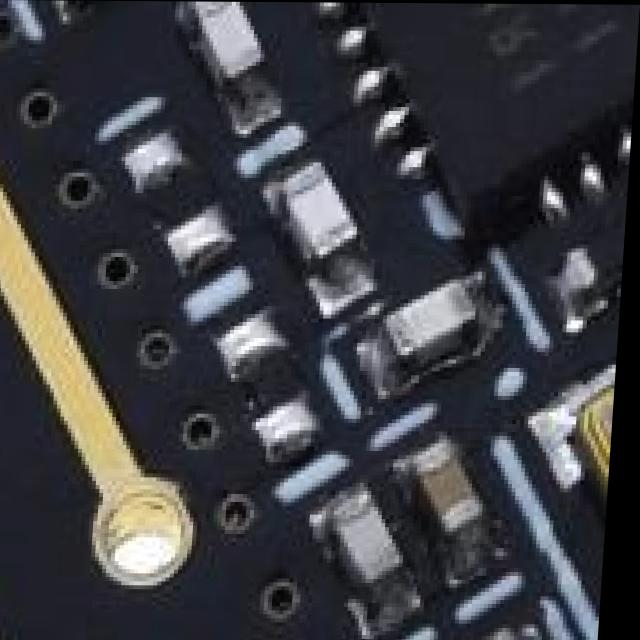IC: (288, 2, 640, 228)
capacitor: (379, 282, 497, 373), (319, 490, 422, 593), (265, 162, 360, 258), (175, 1, 264, 94), (414, 443, 489, 535), (27, 0, 164, 29), (434, 631, 547, 640)
clock: (576, 272, 626, 624)
resistor: (225, 333, 327, 442)
